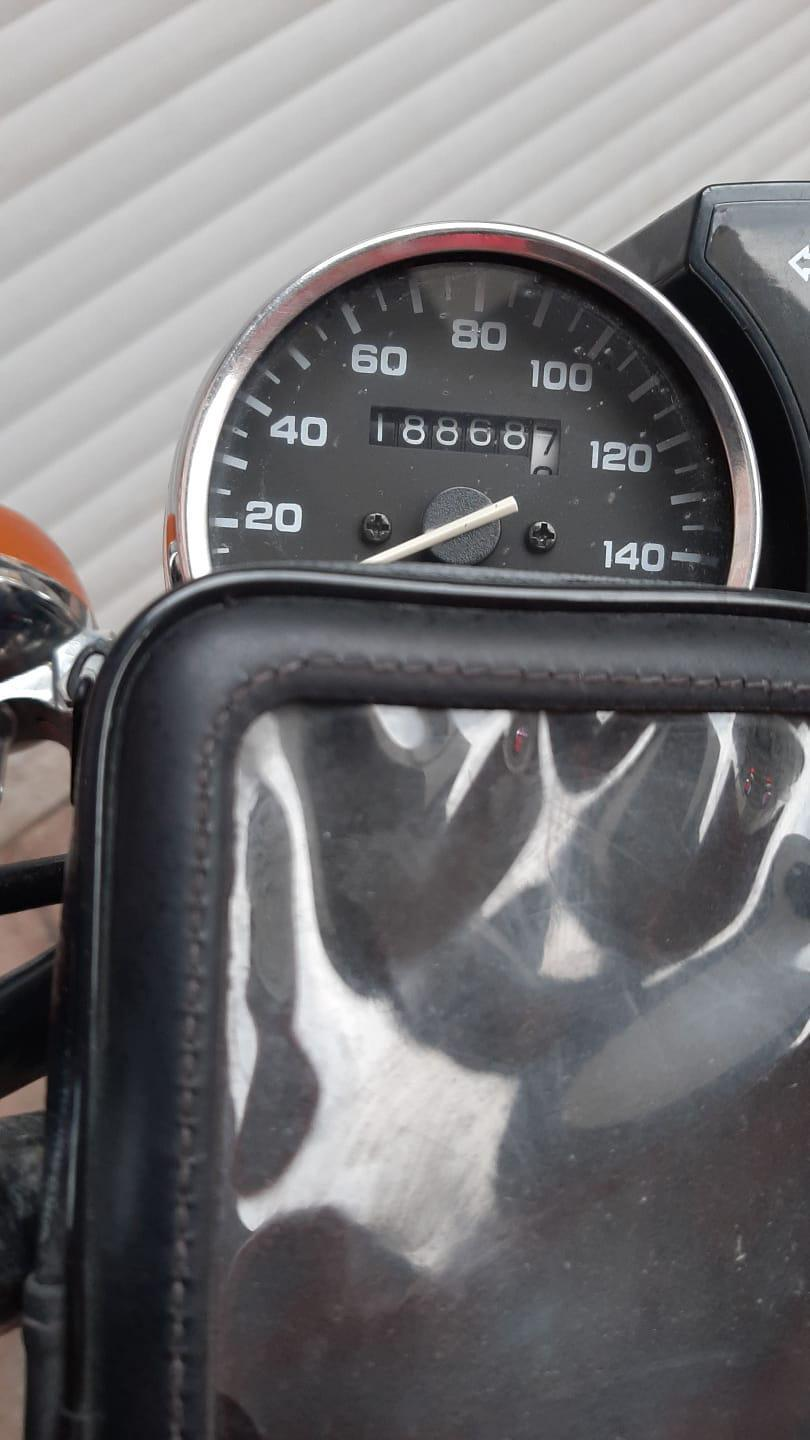1: (374, 408, 388, 449)
6: (467, 416, 493, 447)
7: (535, 424, 558, 455)
8: (400, 413, 427, 447), (501, 417, 527, 451), (434, 415, 459, 446)
odometer: (359, 398, 573, 489)
